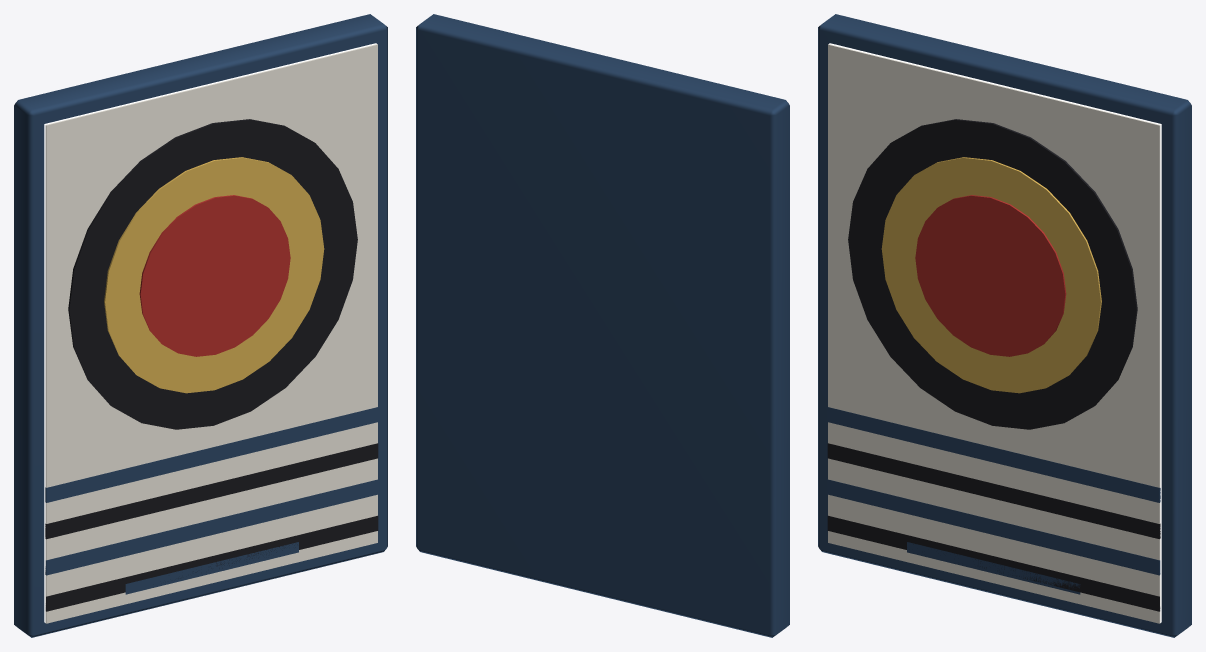
The model's file is ad_sun.glb.
3 views of the same model, side by side, from view 1: azimuth 30°, elevation 25°; view 2: azimuth 150°, elevation 25°; view 3: azimuth 330°, elevation 25° (orthographic).
Parts seen in each view (by area): view 1: ad_sun; view 2: ad_sun; view 3: ad_sun.
Part boxes in pixels (left/top/right/bottom): ad_sun: left=14, top=14, right=387, bottom=637; ad_sun: left=416, top=14, right=789, bottom=637; ad_sun: left=818, top=14, right=1191, bottom=637.
Bounding box in the file's own units: 2.5 × 3.5 × 0.286.
